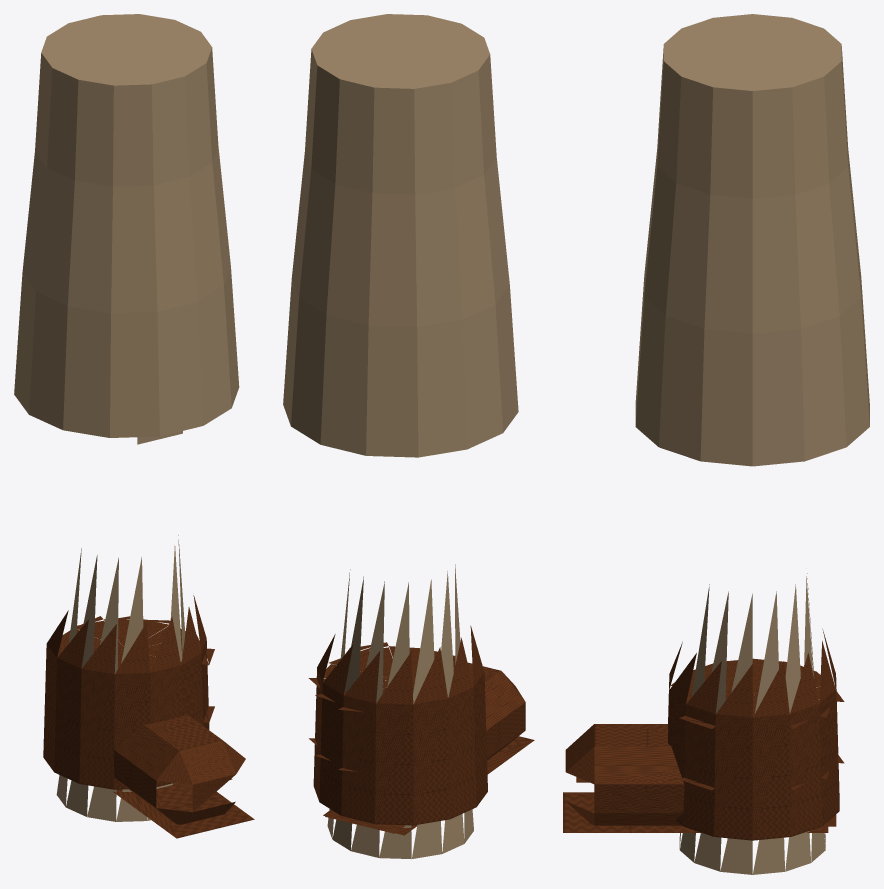
Rendered from goblin-LegR.glb.
The picture shows the model from 3 angles, left to right: view 1: azimuth 30°, elevation 25°; view 2: azimuth 150°, elevation 25°; view 3: azimuth 270°, elevation 25°; orthographic projection. The views are drawn at different scales.
Visible parts, largest first — view 1: LegR_thigh-r.002, LegR_boot-r.001, LegR_shin-r.002; view 2: LegR_thigh-r.002, LegR_boot-r.001, LegR_shin-r.002; view 3: LegR_thigh-r.002, LegR_boot-r.001, LegR_shin-r.002.
Part boxes in pixels (x1,y1,x2,y2): LegR_thigh-r.002: [14, 14, 239, 437]; LegR_boot-r.001: [43, 595, 254, 838]; LegR_shin-r.002: [56, 431, 185, 821]; LegR_thigh-r.002: [283, 14, 518, 457]; LegR_boot-r.001: [308, 625, 534, 835]; LegR_shin-r.002: [327, 564, 473, 859]; LegR_thigh-r.002: [635, 14, 869, 466]; LegR_boot-r.001: [563, 629, 844, 840]; LegR_shin-r.002: [679, 573, 825, 874].
Size of the model in its own units: 0.1566 by 0.5742 by 0.1999.
Materials: 2 (1 with a texture image).
